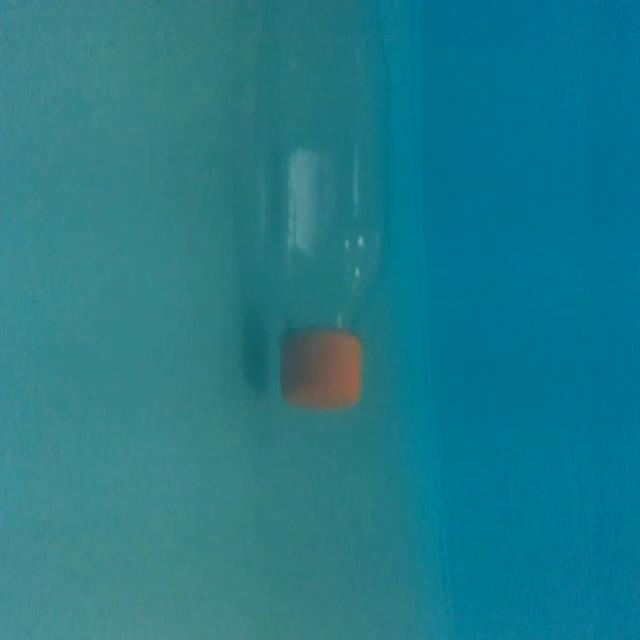plastic bottle: (238, 0, 408, 448)
